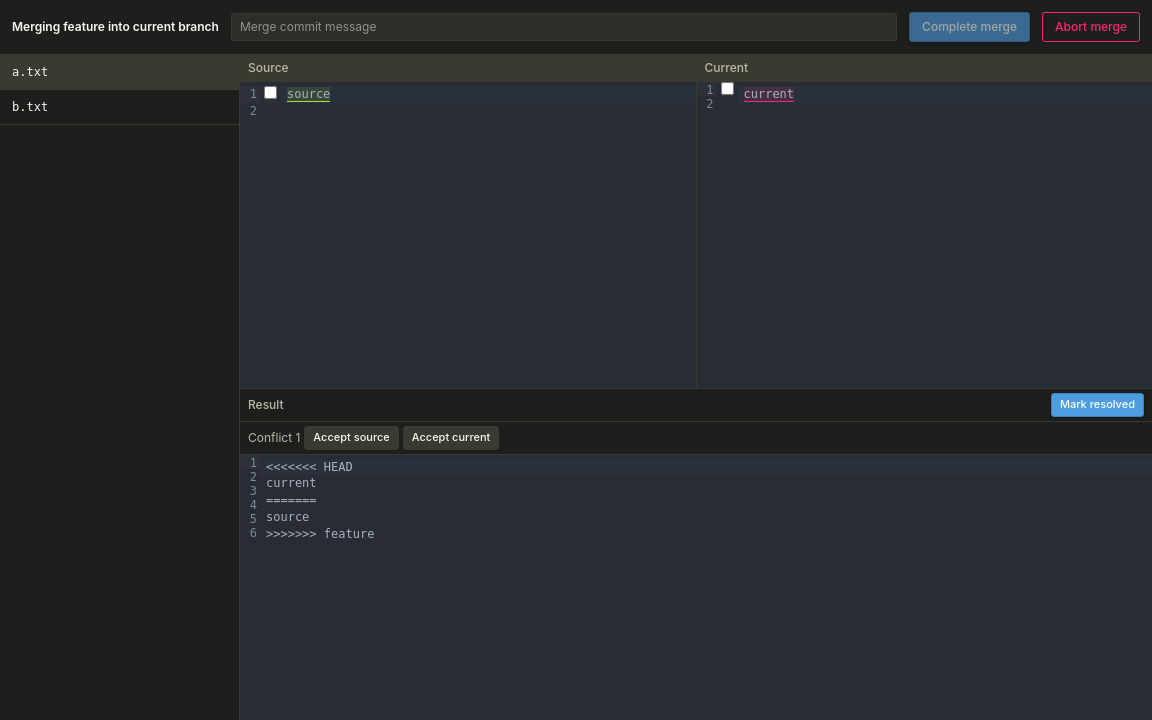
Test: MergeEditor › switching files with unsaved edits prompts before discarding them
Click the button "Accept current" at (451, 438), box [403,426,499,450]
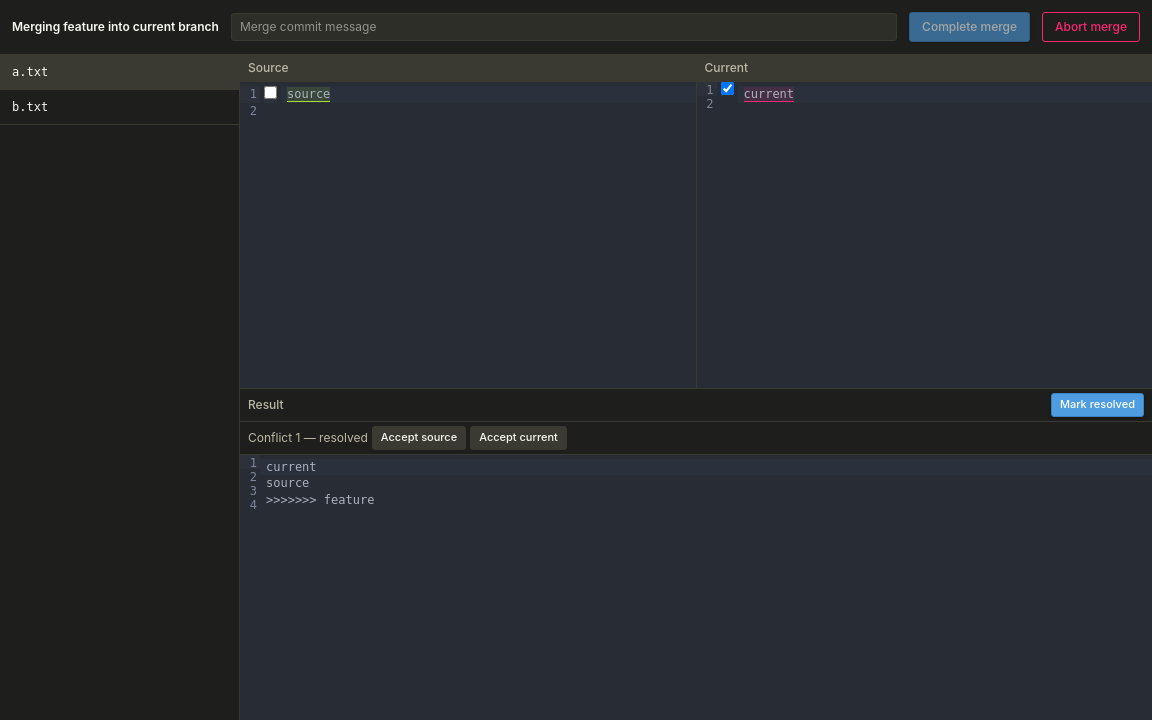
Click the button "b.txt" at (120, 108), box [0,90,239,125]
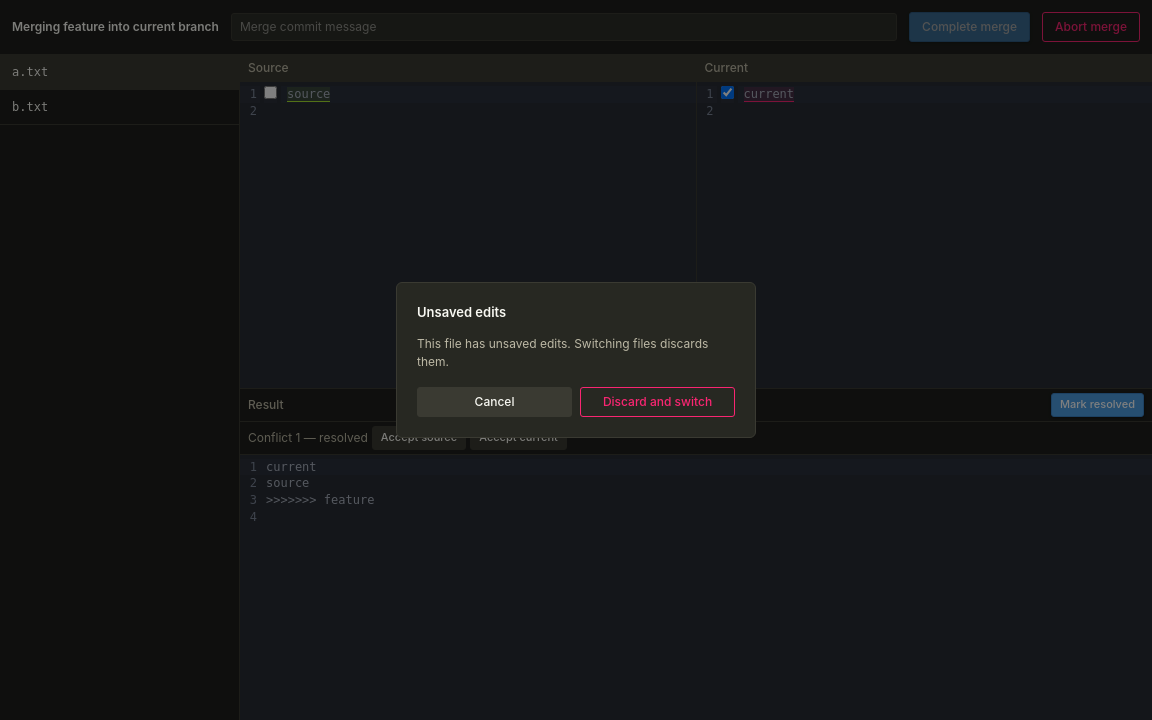
Expected: the dialog "Unsaved" is shown
